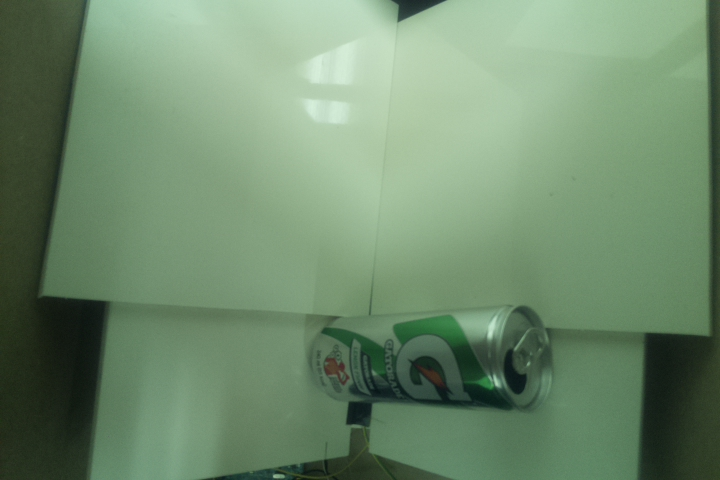can: (309, 303, 555, 415)
